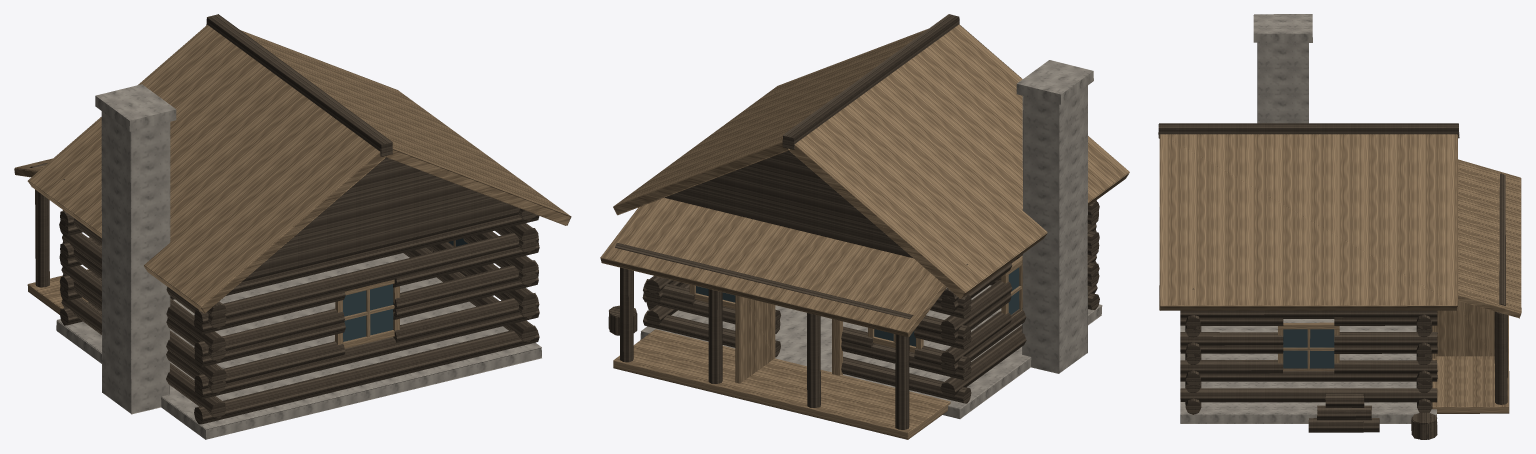
The model's file is pine_lodge.glb.
3 renders of one model, left to right at view 1: azimuth 30°, elevation 25°; view 2: azimuth 150°, elevation 25°; view 3: azimuth 270°, elevation 25°, orthographic. The views are drawn at different scales.
Parts seen in each view (by area): view 1: PineLodge; view 2: PineLodge; view 3: PineLodge.
Part boxes in pixels (box(x1,y1,x2,y2)): PineLodge: box(14, 14, 571, 439); PineLodge: box(600, 14, 1129, 439); PineLodge: box(1158, 14, 1521, 439).
Bounding box in the file's own units: 8.84 × 6.14 × 7.92.
4 materials, 3 textured.
